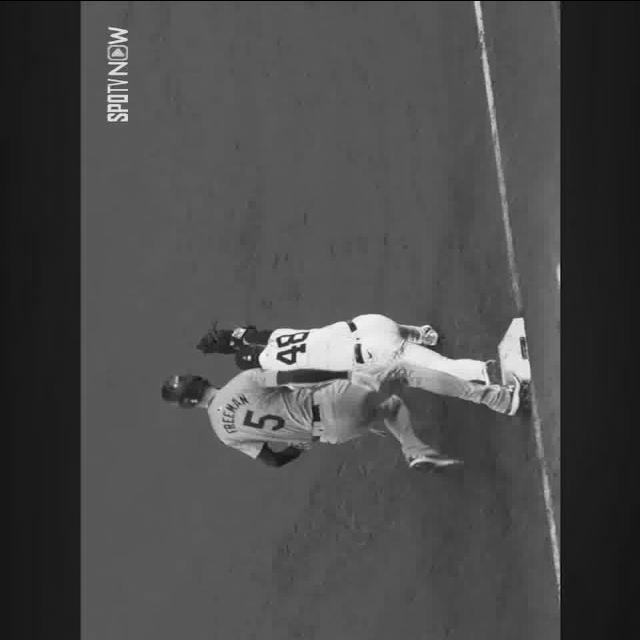base: (498, 316, 532, 382)
baseball_glove: (197, 326, 256, 352)
shoe: (496, 374, 523, 415), (410, 455, 463, 471), (482, 358, 502, 384), (421, 326, 441, 344)
